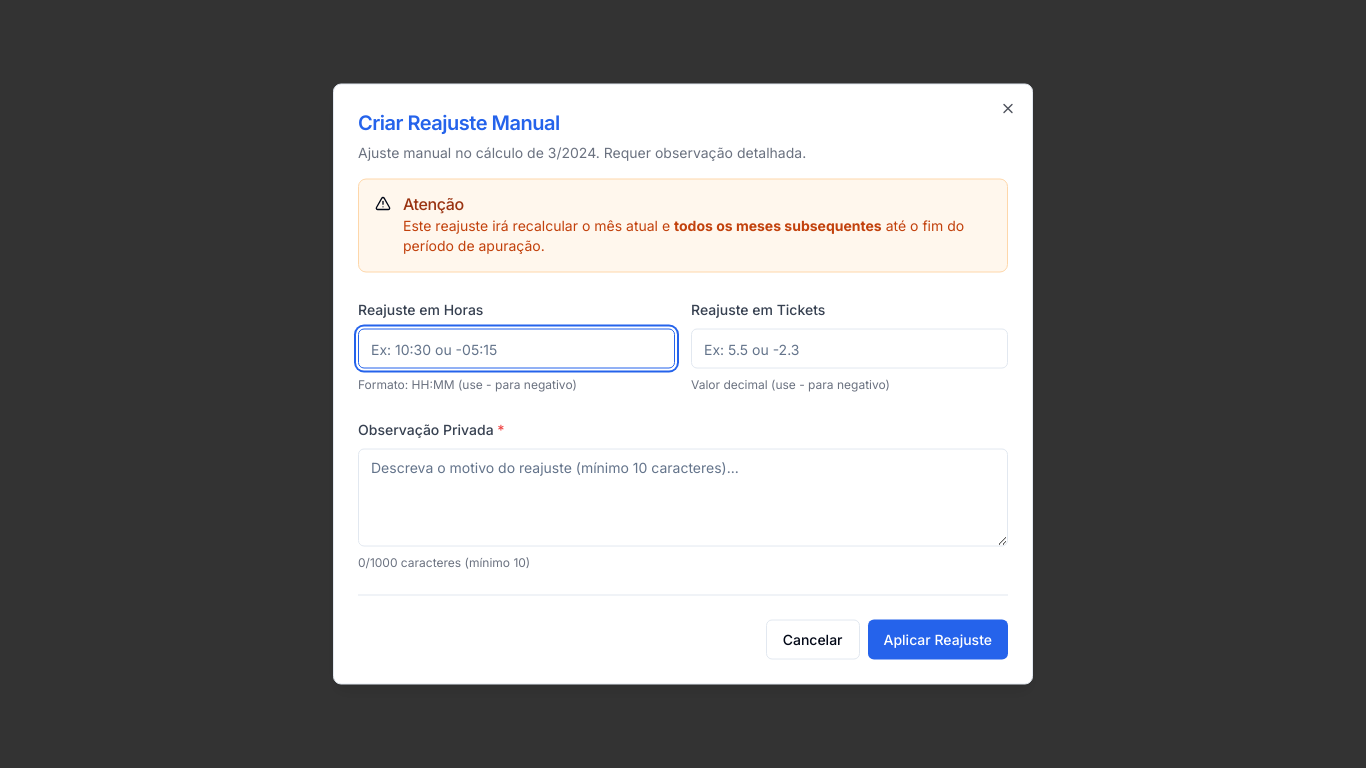
Scenario: ModalReajuste › deve exibir preview do impacto para reajuste positivo
The image size is (1366, 768).
# Reajuste positivo
Step 1. Type "05:30" into the field with placeholder "Ex: 10:30 ou -05:15" → (516, 348), box [358,328,675,368]
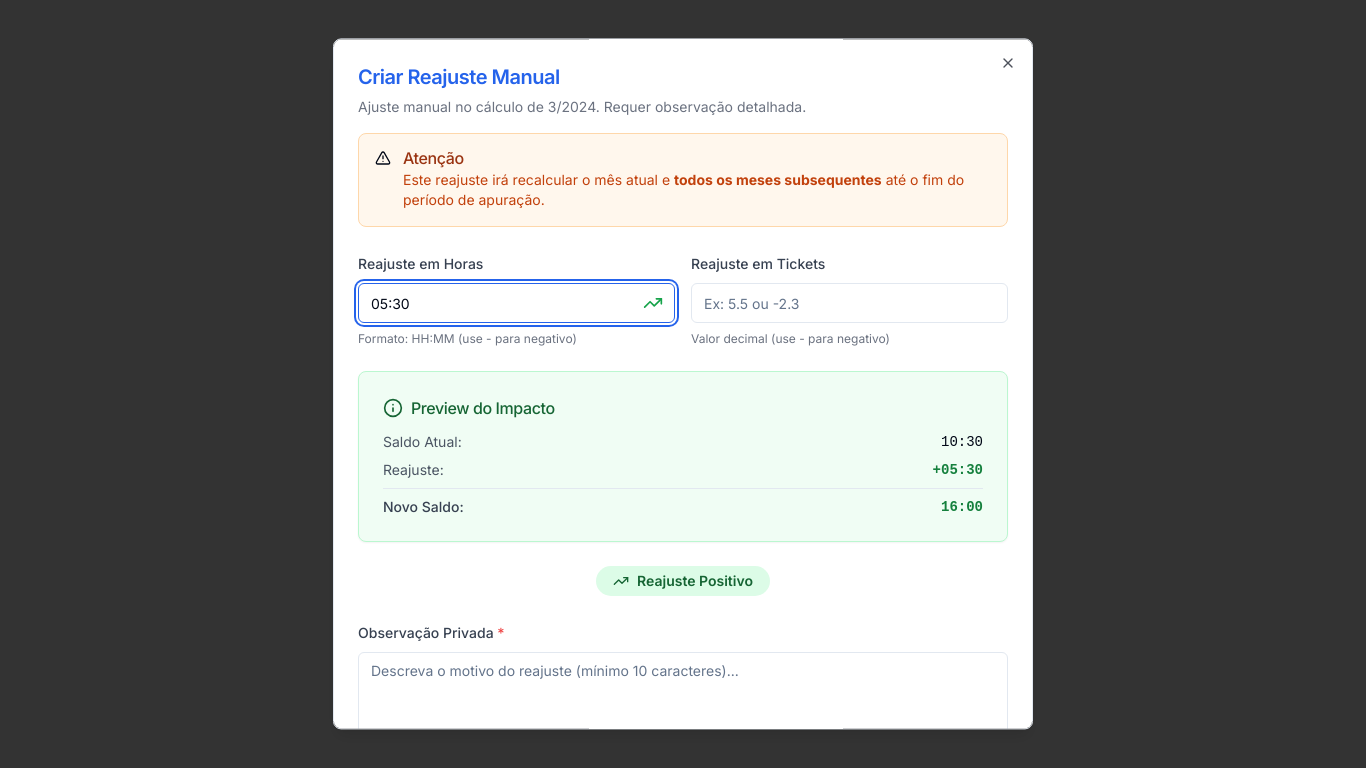
expect the heading "Preview do Impacto" is shown: met, box [383,398,555,418]
expect the text "Reajuste Positivo" is shown: met, box [596,566,770,596]
